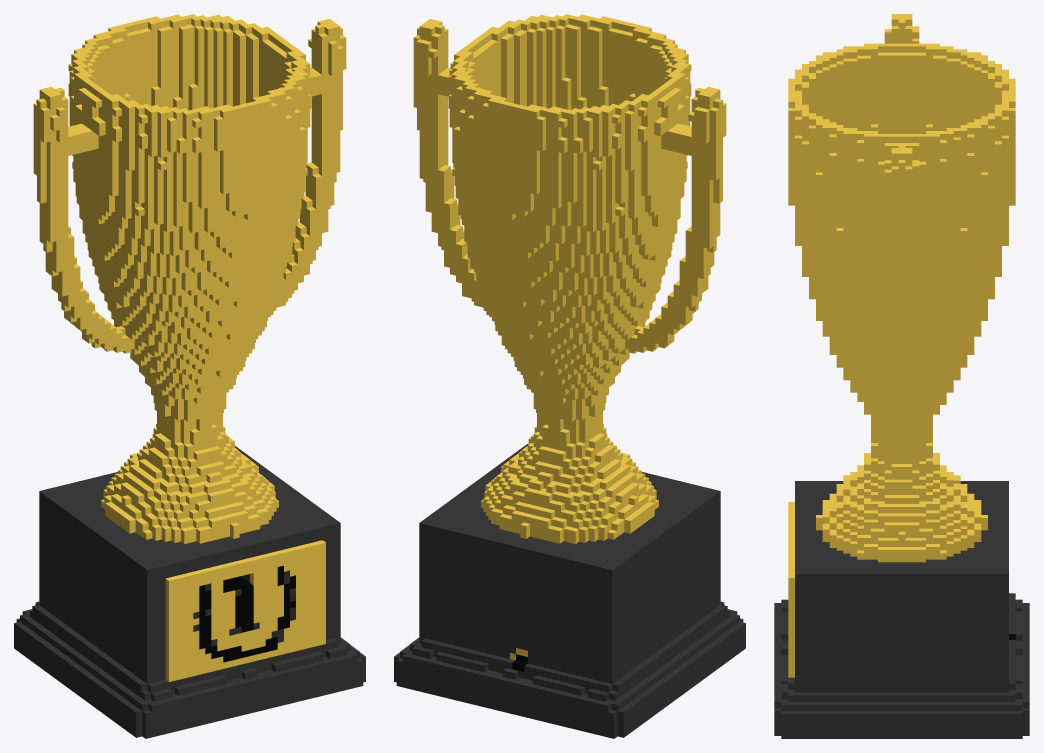
Rendered from cup.obj.
3 renders of one model, left to right at view 1: azimuth 30°, elevation 25°; view 2: azimuth 150°, elevation 25°; view 3: azimuth 270°, elevation 25°, orthographic.
Size of the model in its own units: 5 by 9.6 by 3.7.
Materials: 1 (1 with a texture image).
